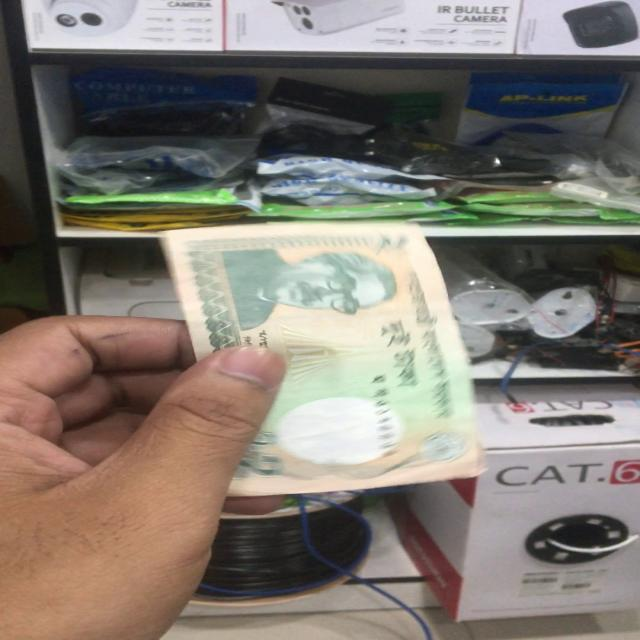Taka: (149, 220, 492, 495)
